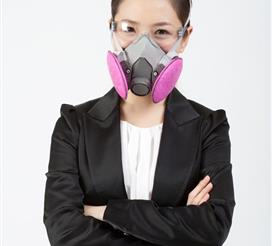face_mask: (111, 0, 180, 85)
